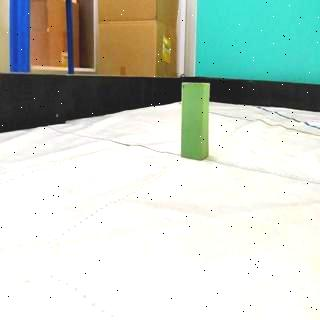greenbox: (182, 81, 210, 160)
